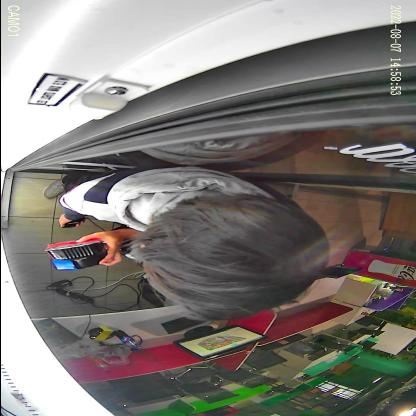blue: (51, 249, 107, 271)
red: (45, 238, 101, 260)
